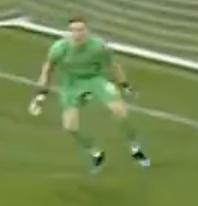goalkeeper: (23, 12, 175, 189)
